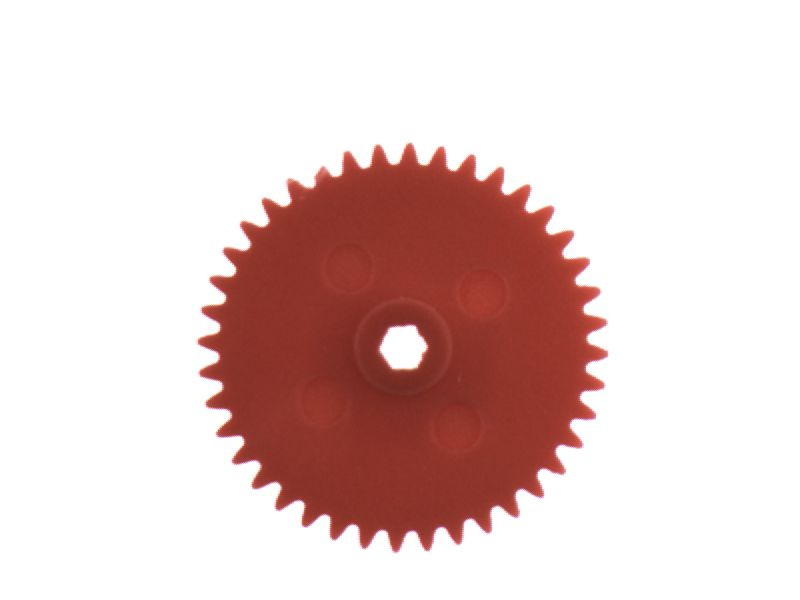defect_break: (300, 155, 344, 197)
